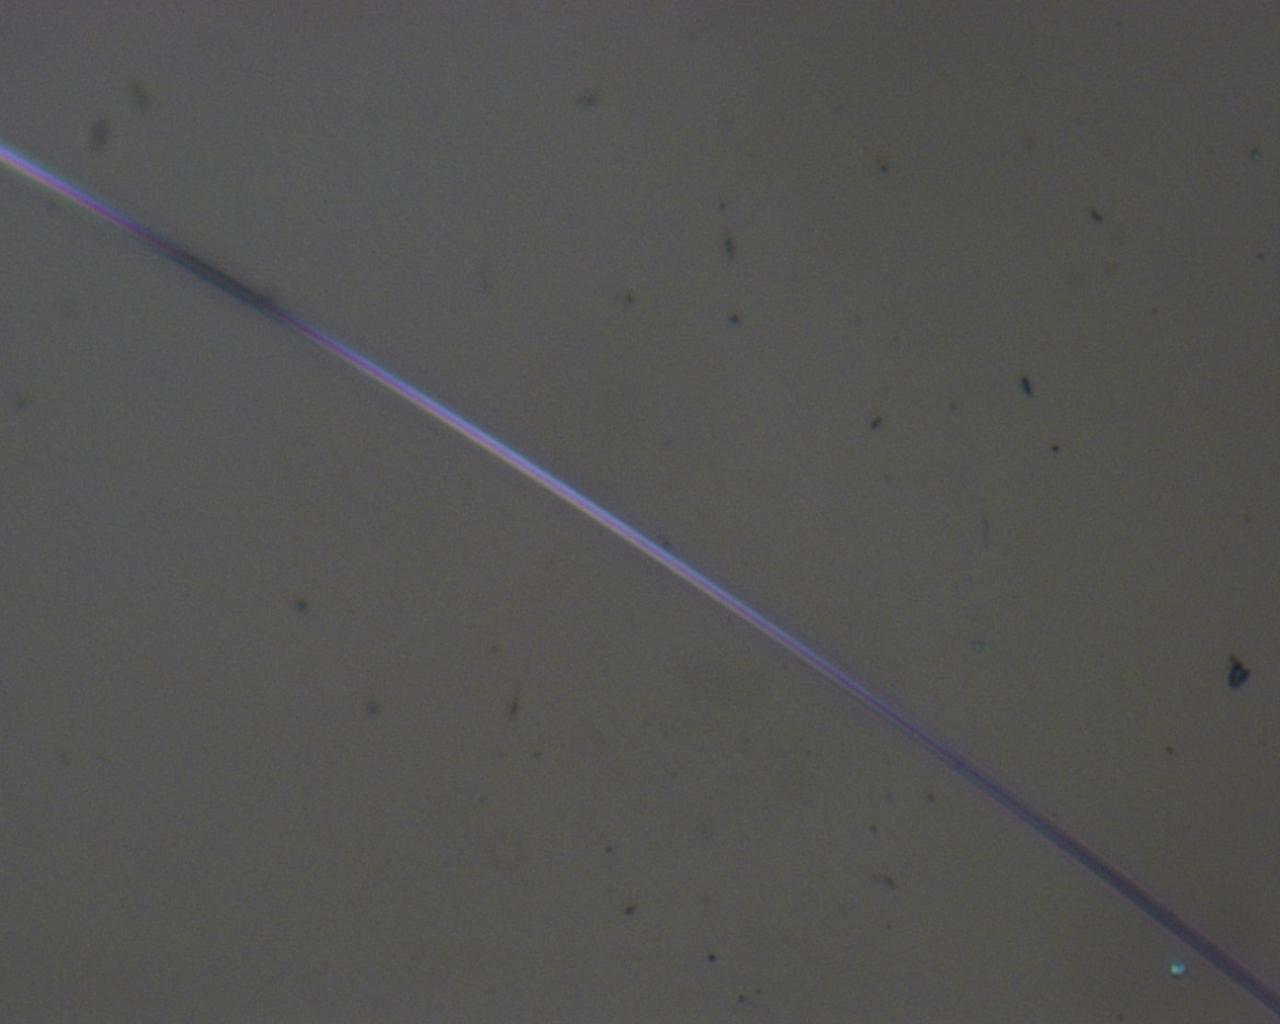fiber: (303, 0, 418, 491), (1007, 0, 1089, 491), (1080, 491, 1137, 1024), (405, 491, 461, 1024)
